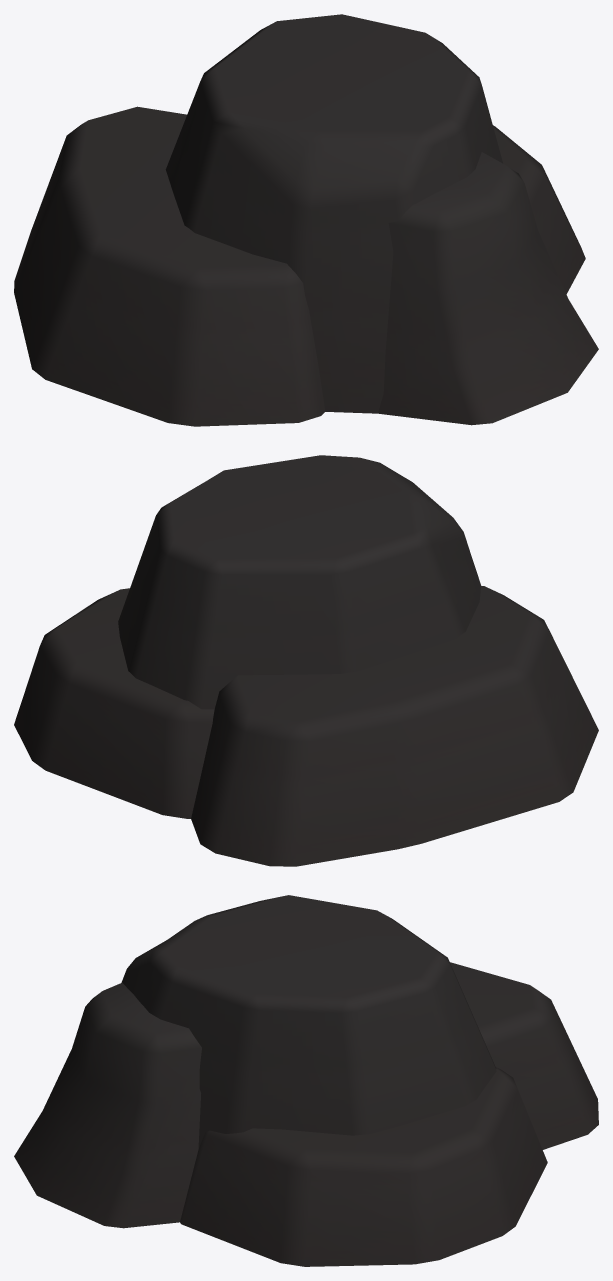
The model's file is inferno-rock-small-003.glb.
3 renders of one model, top to bottom at view 1: azimuth 30°, elevation 25°; view 2: azimuth 150°, elevation 25°; view 3: azimuth 270°, elevation 25°, orthographic. The views are drawn at different scales.
Visible parts, largest first — view 1: RockSmall_003; view 2: RockSmall_003; view 3: RockSmall_003.
Boxes of the visible parts, left/top/right/bottom form: RockSmall_003: left=14, top=14, right=598, bottom=426; RockSmall_003: left=14, top=455, right=598, bottom=866; RockSmall_003: left=14, top=895, right=598, bottom=1266.
Bounding box in the file's own units: 3.66 × 1.5 × 3.76.
1 material, 1 textured.
